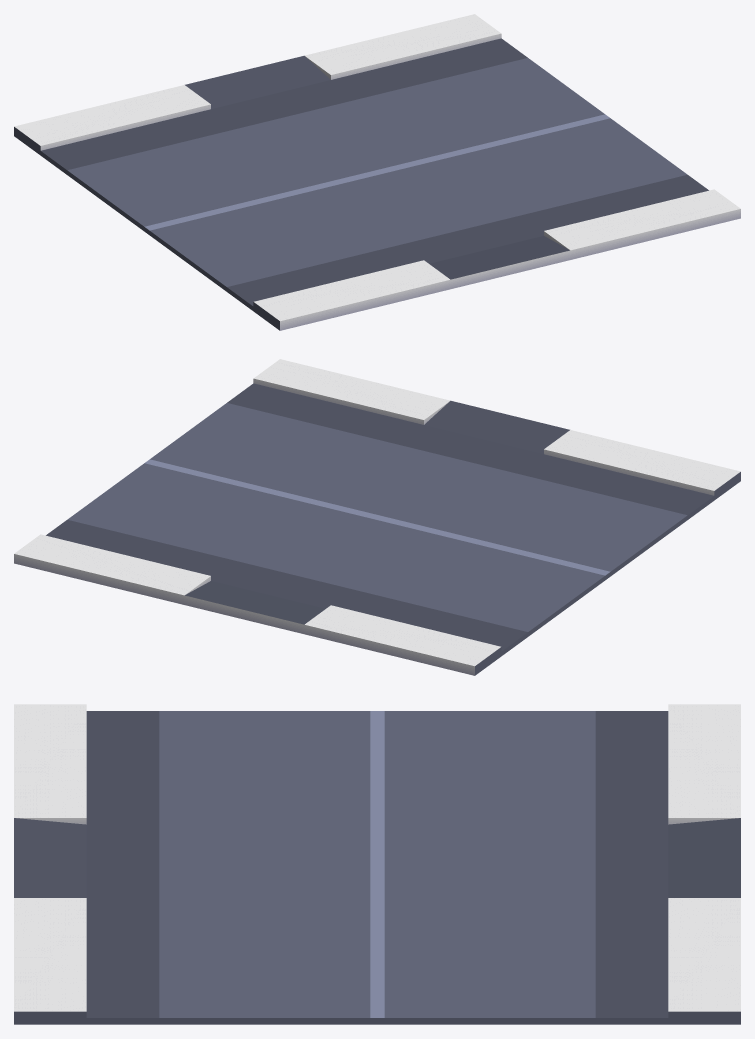
Rendered from road-driveway-double.glb.
3 renders of one model, top to bottom at view 1: azimuth 30°, elevation 25°; view 2: azimuth 150°, elevation 25°; view 3: azimuth 270°, elevation 25°, orthographic. The views are drawn at different scales.
Visible parts, largest first — view 1: road-driveway-double; view 2: road-driveway-double; view 3: road-driveway-double.
Boxes of the visible parts, bbox=[...] form: road-driveway-double: bbox=[14, 14, 740, 330]; road-driveway-double: bbox=[14, 359, 740, 675]; road-driveway-double: bbox=[14, 704, 740, 1024].
Size of the model in its own units: 1 by 0.02 by 1.
Materials: 1 (1 with a texture image).
